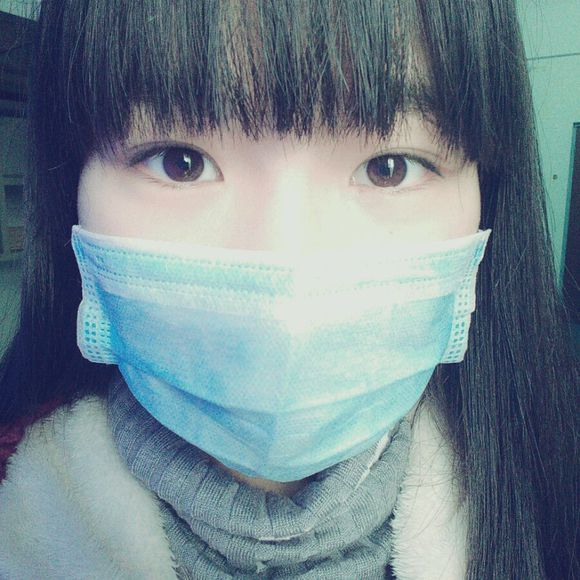face_mask: (82, 1, 482, 478)
